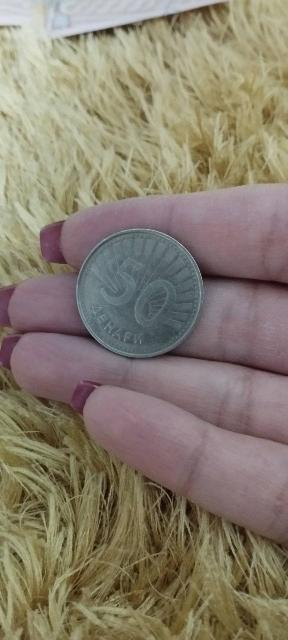50_coin: (70, 223, 201, 361)
